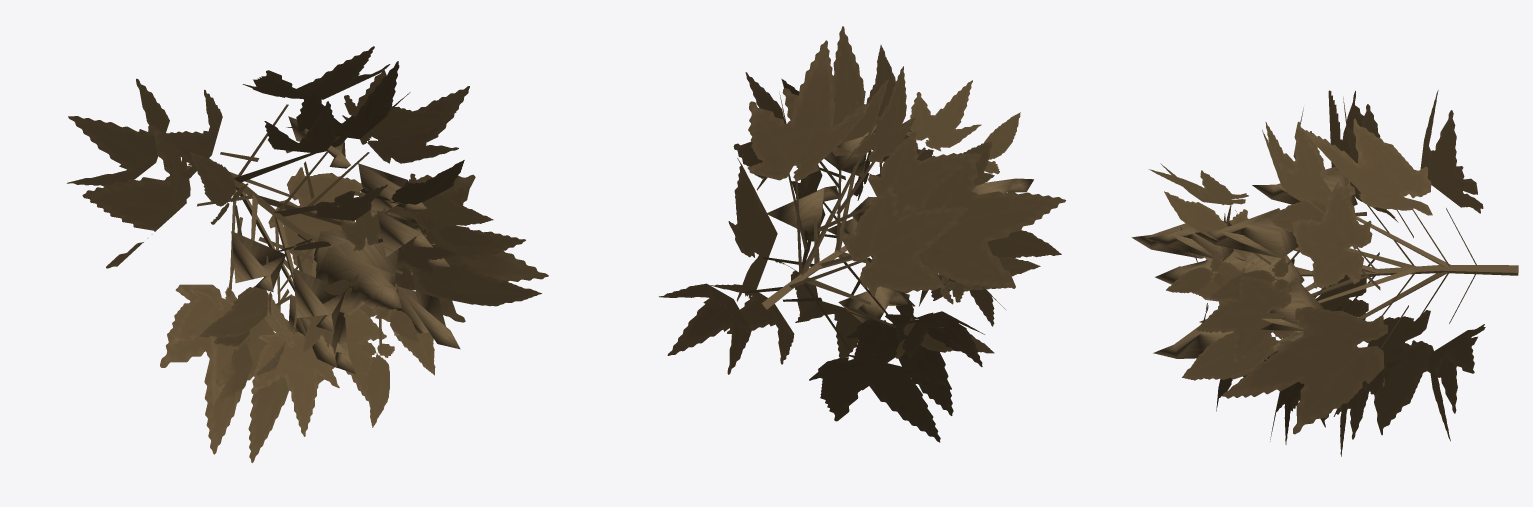
File: p_afghan_ripe_c3_cards.obj
3 renders of one model, left to right at view 1: azimuth 30°, elevation 25°; view 2: azimuth 150°, elevation 25°; view 3: azimuth 270°, elevation 25°, orthographic. The views are drawn at different scales.
Size of the model in its own units: 1.74 by 1.6 by 1.26.
Materials: 1 (1 with a texture image).
